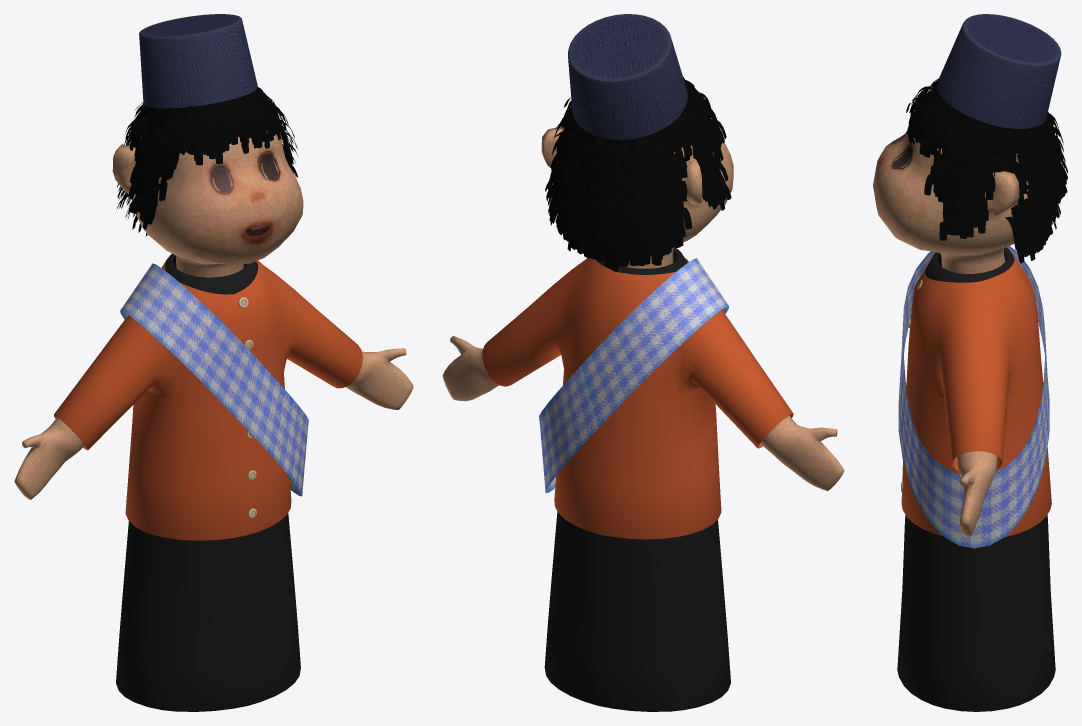
Rendered from boneka unyil.fbx.
3 renders of one model, left to right at view 1: azimuth 30°, elevation 25°; view 2: azimuth 150°, elevation 25°; view 3: azimuth 270°, elevation 25°, orthographic.
Visible parts, largest first — view 1: Cylinder.001, Cylinder.002, Roundcube, Circle, Mesh, Circle.001, Cylinder.004, Cylinder; view 2: Cylinder.001, Cylinder.002, Mesh, Circle, Circle.001, Cylinder.004, Roundcube, Cylinder; view 3: Cylinder.002, Cylinder.001, Mesh, Circle, Circle.001, Roundcube, Cylinder.004, Cylinder.
Boxes of the visible parts, x1,y1,x2,y2 form: Cylinder.001: [54, 257, 362, 540]; Cylinder.002: [116, 513, 300, 711]; Roundcube: [112, 101, 303, 277]; Circle: [120, 263, 308, 496]; Mesh: [117, 87, 298, 236]; Circle.001: [139, 14, 257, 108]; Cylinder.004: [14, 348, 413, 499]; Cylinder: [165, 253, 258, 294]; Cylinder.001: [482, 258, 793, 539]; Cylinder.002: [544, 511, 730, 711]; Mesh: [545, 77, 731, 271]; Circle: [539, 258, 728, 492]; Circle.001: [568, 14, 687, 139]; Cylinder.004: [442, 335, 844, 490]; Roundcube: [541, 101, 733, 268]; Cylinder: [596, 247, 687, 274]; Cylinder.002: [897, 515, 1055, 711]; Cylinder.001: [901, 253, 1051, 537]; Mesh: [906, 78, 1067, 263]; Circle: [898, 246, 1049, 548]; Circle.001: [936, 14, 1061, 128]; Roundcube: [873, 91, 1043, 273]; Cylinder.004: [957, 451, 997, 536]; Cylinder: [925, 247, 1014, 282].
Size of the model in its own units: 702 by 1101 by 301.
2 materials, 1 textured.
